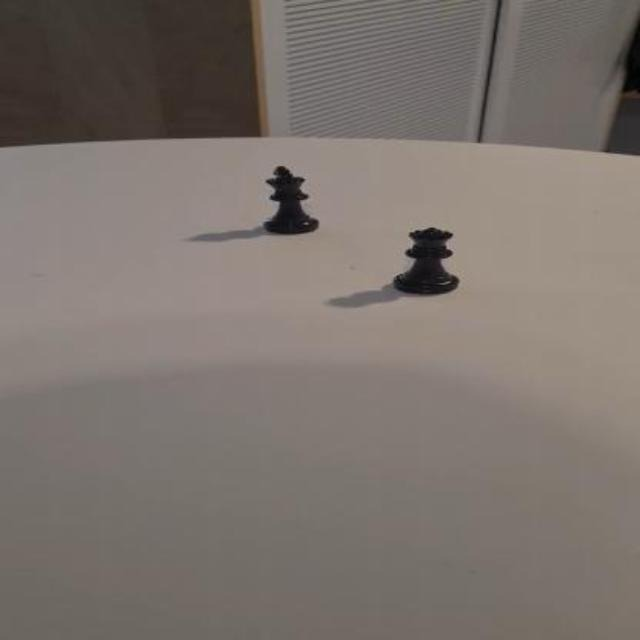black-king: (264, 165, 322, 237)
black-queen: (393, 225, 460, 295)
